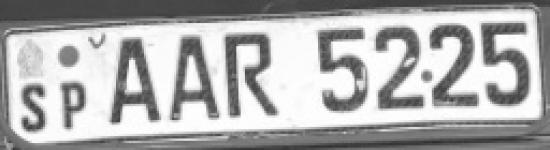2: (370, 22, 428, 114), (426, 19, 481, 113)
5: (312, 22, 371, 116), (479, 17, 534, 111)
A: (104, 33, 167, 131), (166, 32, 221, 128)
P: (56, 78, 90, 132)
R: (223, 29, 286, 123)
S: (15, 80, 49, 139)
